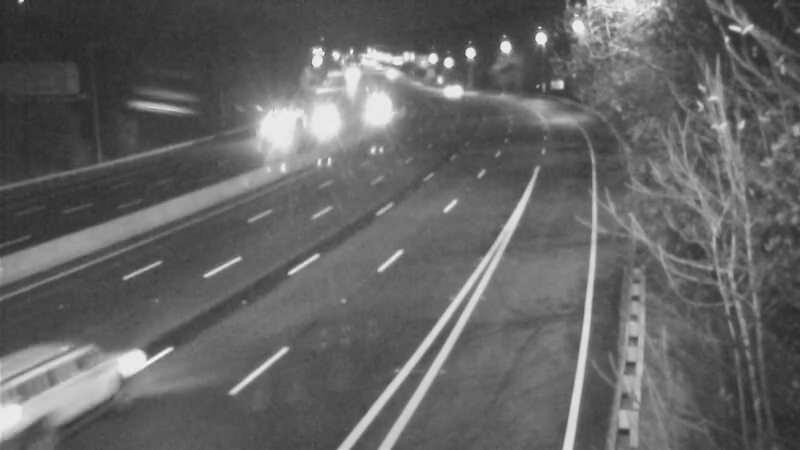vehicle: (5, 331, 115, 441), (426, 63, 476, 113), (248, 101, 298, 151), (301, 99, 351, 149), (346, 88, 396, 138)
